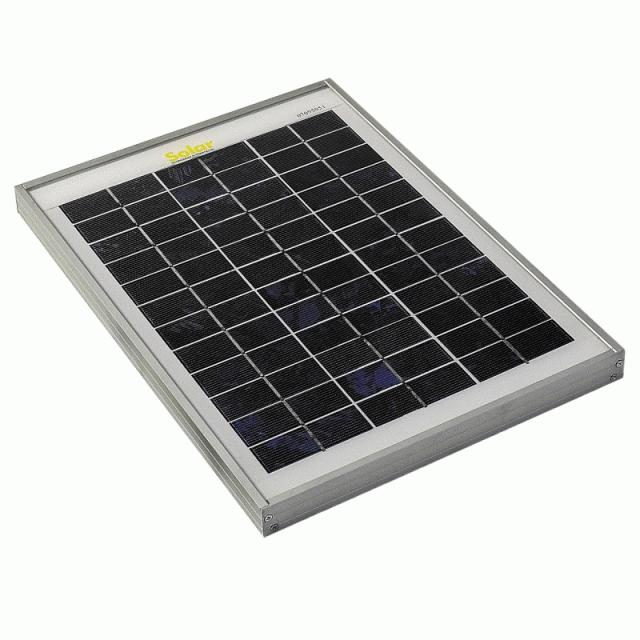no faulty: (62, 110, 566, 470)
